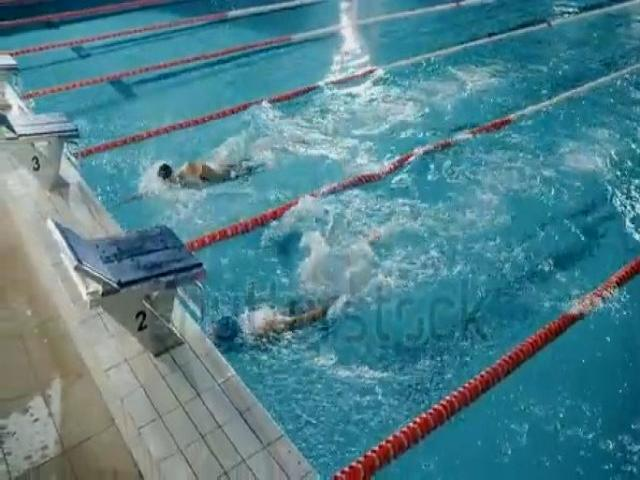swimming: (221, 297, 343, 355), (157, 141, 260, 194)
